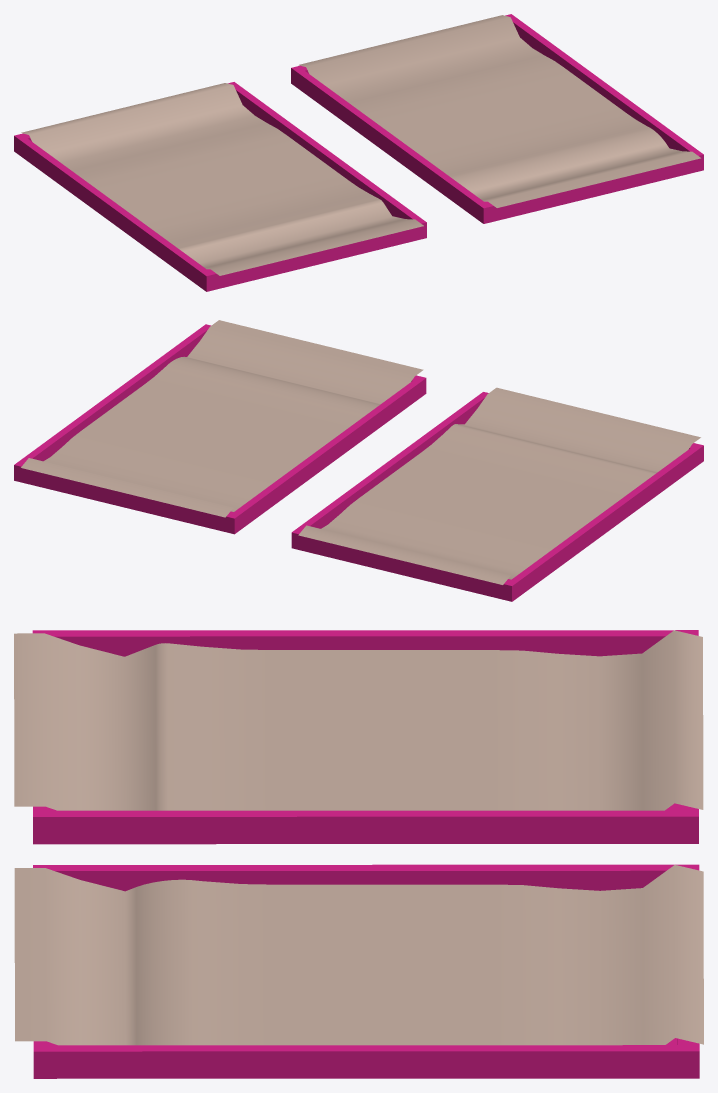
File: Display racks.fbx
3 renders of one model, top to bottom at view 1: azimuth 30°, elevation 25°; view 2: azimuth 150°, elevation 25°; view 3: azimuth 270°, elevation 25°, orthographic. The views are drawn at different scales.
Visible parts, largest first — view 1: Plane, Cube.001; view 2: Plane, Cube.001; view 3: Cube.001, Plane.
Boxes of the visible parts, <box> form: Plane: <box>14,82,426,291</box>; Cube.001: <box>291,14,703,223</box>; Plane: <box>291,387,703,601</box>; Cube.001: <box>14,320,426,534</box>; Cube.001: <box>14,864,703,1078</box>; Plane: <box>14,630,703,844</box>.
Bounding box in the file's own units: 2383 × 89.76 × 1649.
